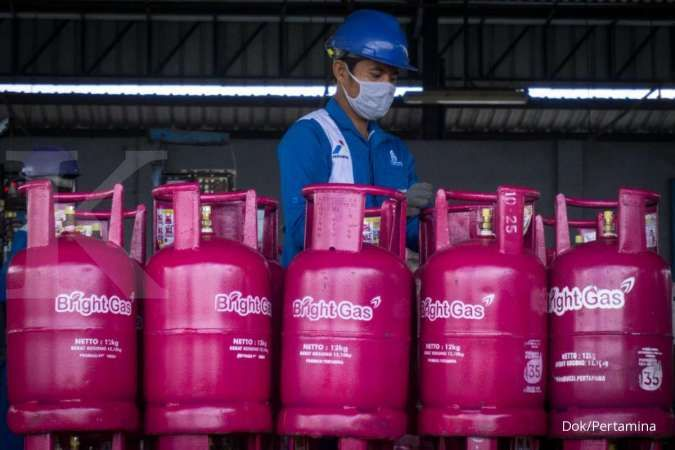bright_gas: (6, 180, 145, 433), (279, 183, 413, 438), (419, 189, 549, 434), (146, 184, 270, 435), (551, 190, 675, 437)
